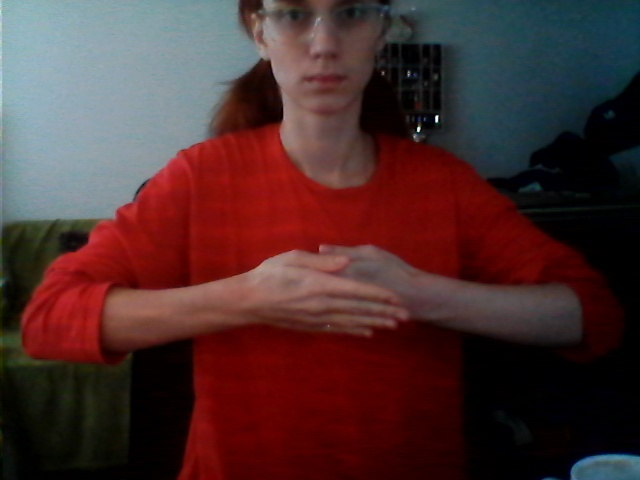dvere: (241, 236, 431, 349)
